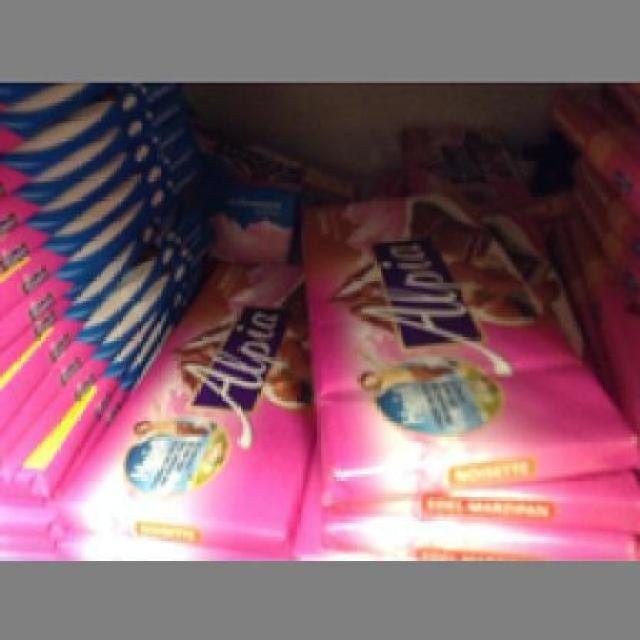Chocolate bar: (300, 189, 637, 500), (68, 254, 308, 543)
